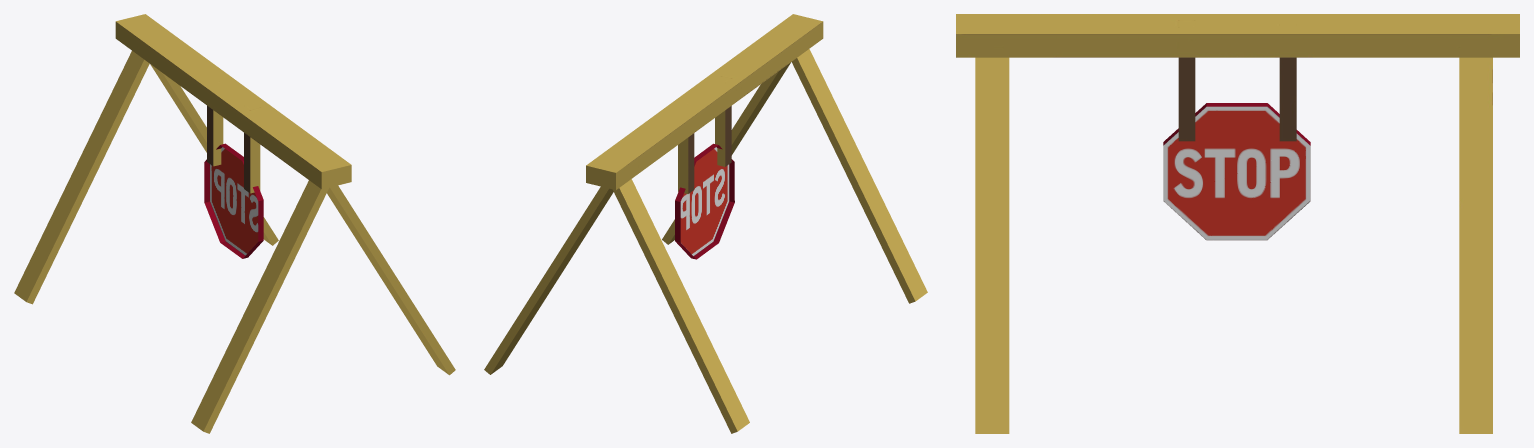
File: Traffic_Interruption_FBX.fbx
The picture shows the model from 3 angles, left to right: view 1: azimuth 30°, elevation 25°; view 2: azimuth 150°, elevation 25°; view 3: azimuth 270°, elevation 25°; orthographic projection. The views are drawn at different scales.
Visible parts, largest first — view 1: pCube8; view 2: pCube8; view 3: pCube8.
Part boxes in pixels (bbox=[...]): pCube8: bbox=[14, 14, 455, 433]; pCube8: bbox=[484, 14, 927, 433]; pCube8: bbox=[956, 14, 1519, 433].
Size of the model in its own units: 3.35 by 3.06 by 4.73.
Materials: 1 (1 with a texture image).
